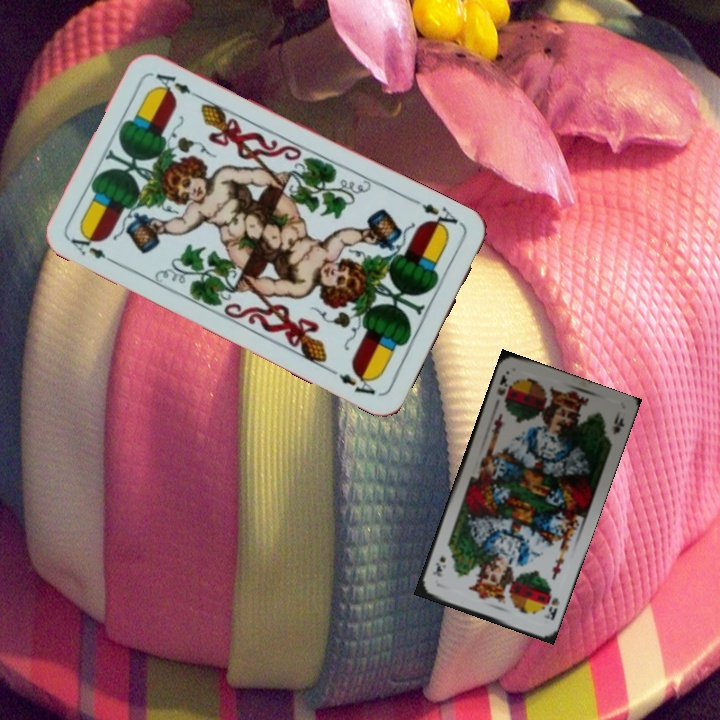EA: (410, 195, 465, 235), (66, 228, 121, 268)
SK: (540, 594, 563, 623), (493, 370, 510, 398)
